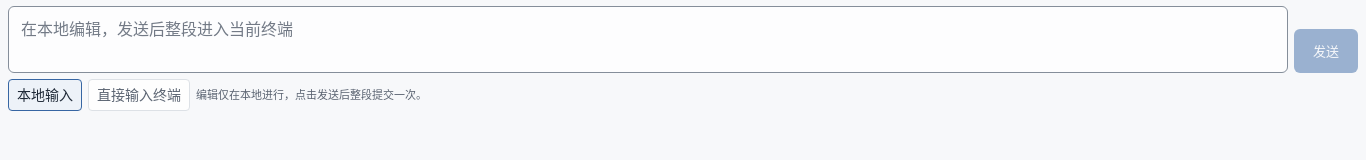
Test: Composer › sends the text and the Enter as two legs, and reports an unconfirmed Enter without resending the text
The image size is (1366, 160).
Type "分两腿发送" into the text box named "本地输入内容" at (648, 39), box x1=8 y1=6 x2=1288 y2=73
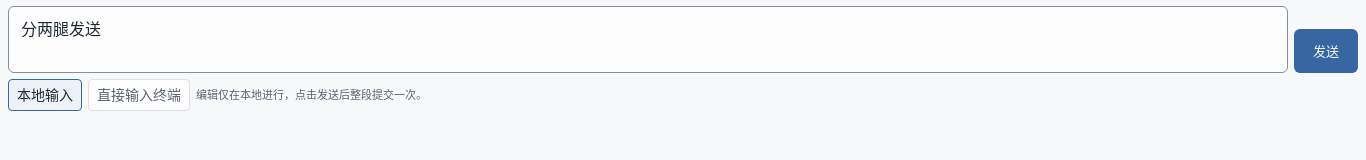
Click the button "发送" at (1326, 51), box x1=1294 y1=29 x2=1358 y2=73
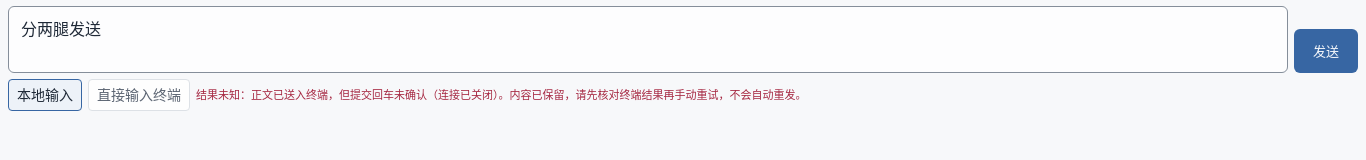
Expected: the message shows "结果未知", x1=196 y1=86 x2=806 y2=102
Expected: the message shows "正文已送入终端，但提交回车未确认", x1=196 y1=86 x2=806 y2=102
